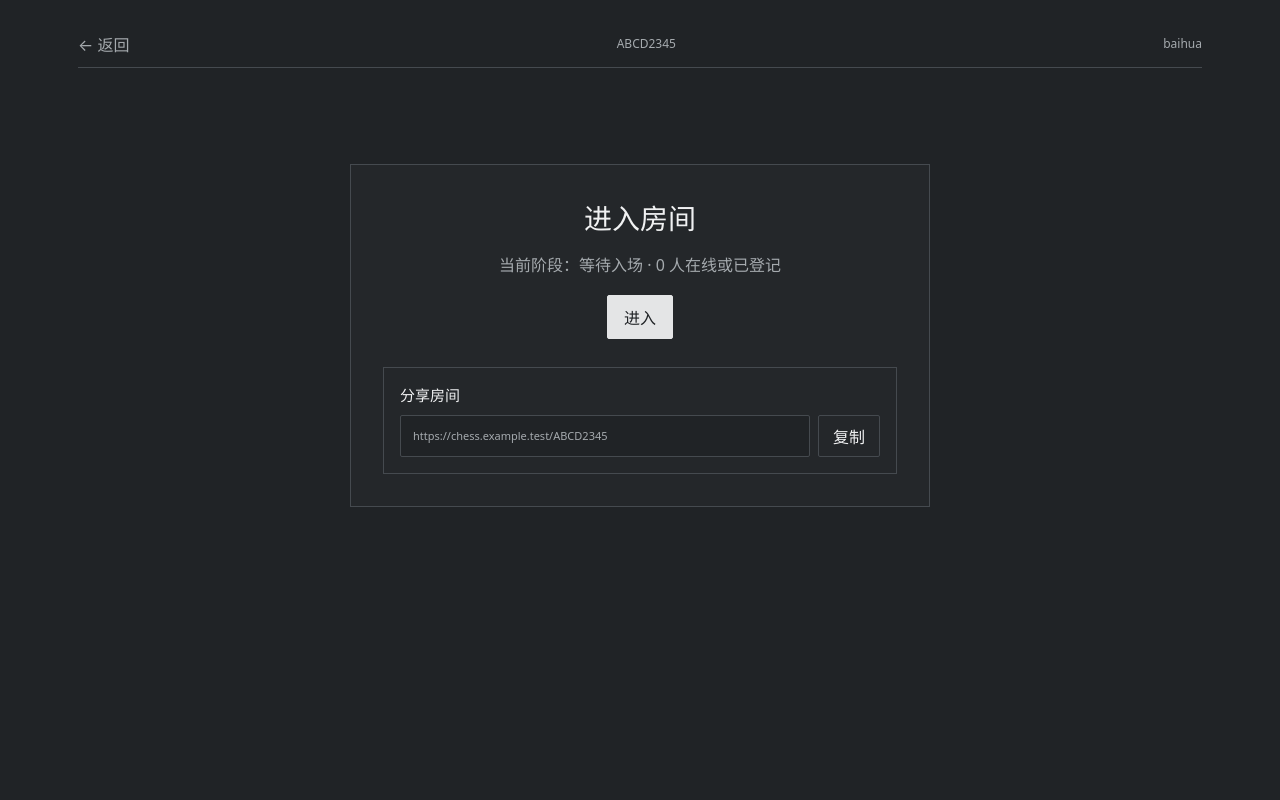
Test: room board interactions › keeps playable moves unhighlighted and marks the current player's turn
Click the button "进入" at (640, 317), box [607,295,673,339]
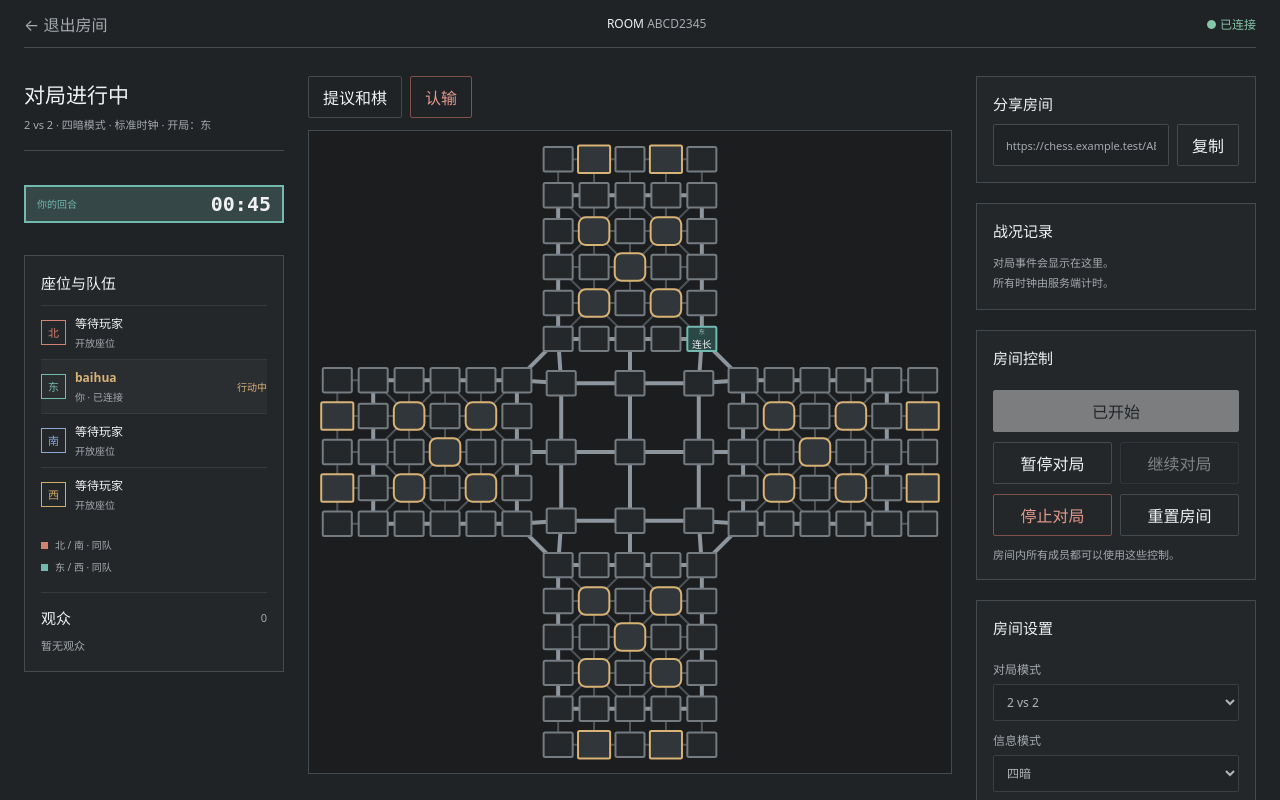
Expected: the element with class "your-turn" is shown, [24,185,284,223]
Expected: the element with class "your-turn" shows "你的回合", [37,197,77,211]
